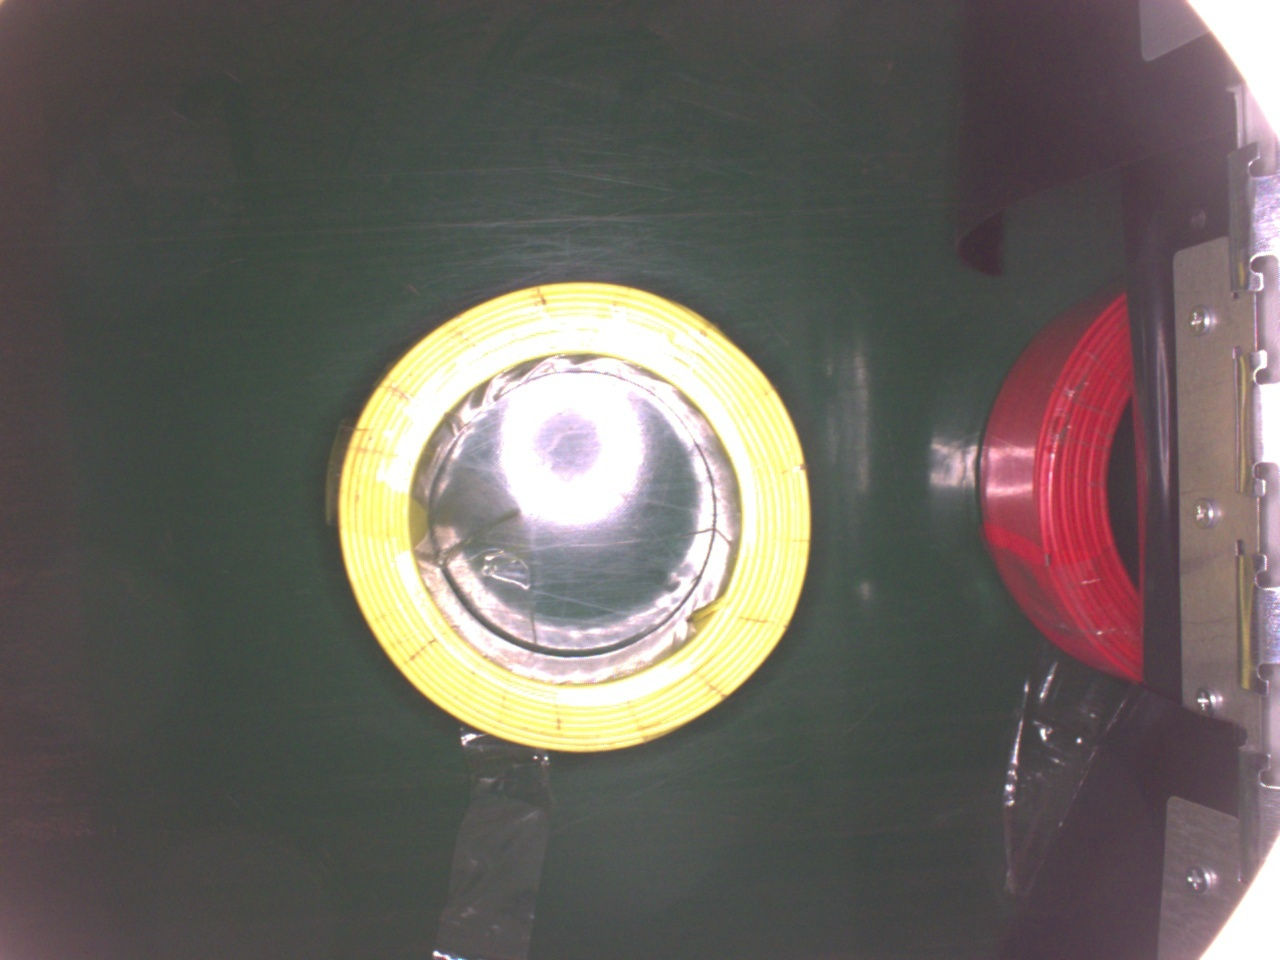red: (978, 268, 1144, 685)
yellow: (332, 270, 823, 761)
